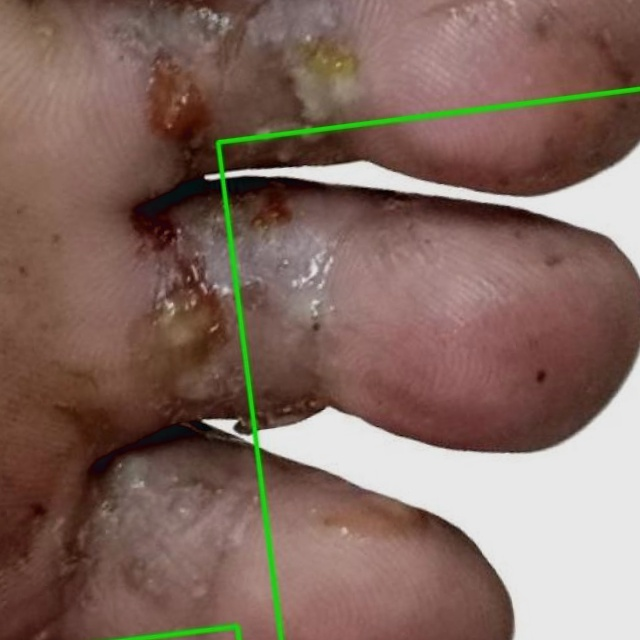Scabies: (218, 88, 639, 639)
